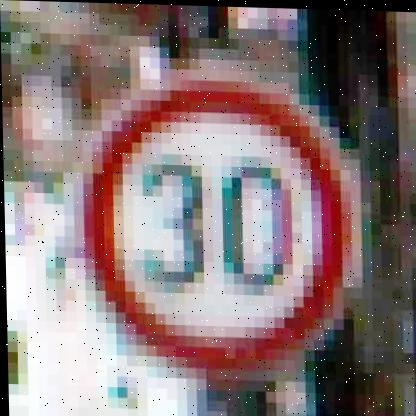Speed Limit -30-: (72, 65, 364, 392)
